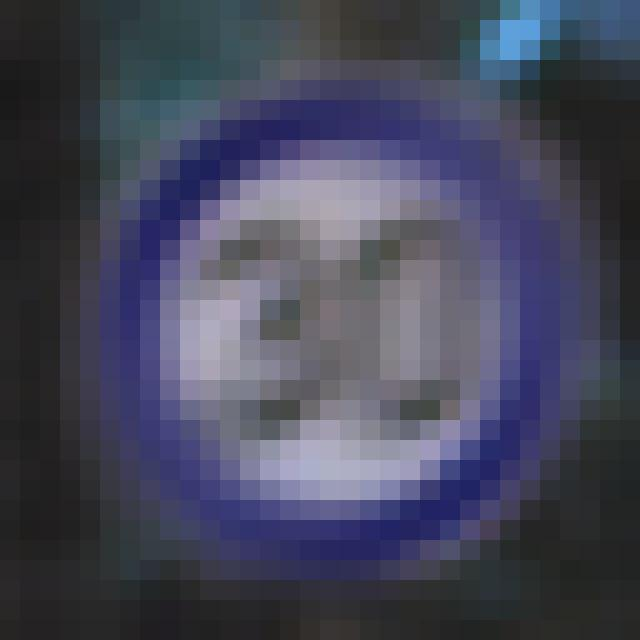SPEED LIMIT 30: (112, 96, 578, 570)
